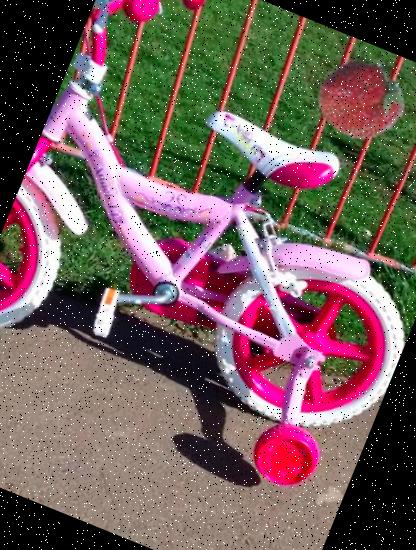Strawberry: (306, 42, 416, 154)
